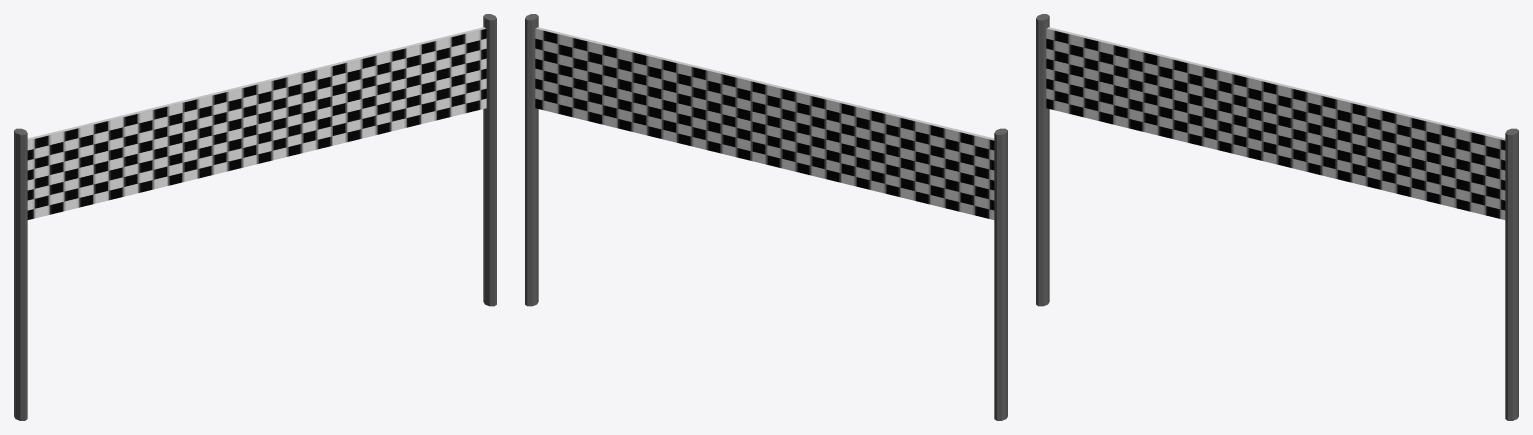
File: FinishLine.dae
3 views of the same model, side by side, from view 1: azimuth 30°, elevation 25°; view 2: azimuth 150°, elevation 25°; view 3: azimuth 330°, elevation 25° (orthographic).
Parts seen in each view (by area): view 1: Cylinder.001; view 2: Cylinder.001; view 3: Cylinder.001.
Boxes of the visible parts, x1=… form: Cylinder.001: x1=14, y1=14, x2=496, y2=420; Cylinder.001: x1=525, y1=14, x2=1007, y2=420; Cylinder.001: x1=1036, y1=14, x2=1518, y2=420.
Size of the model in its own units: 9.58 by 0.3 by 5.46.
Materials: 1 (1 with a texture image).
